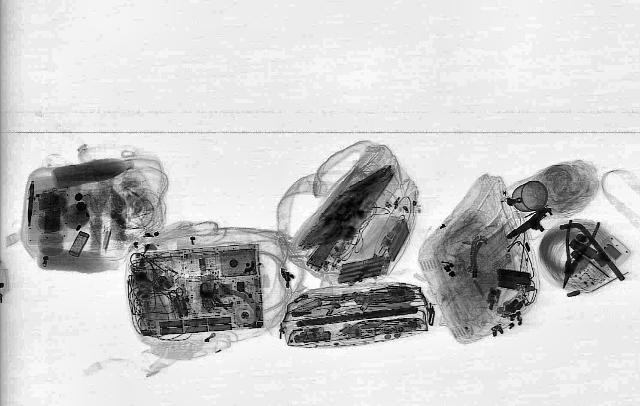Pliers: (548, 220, 602, 290)
